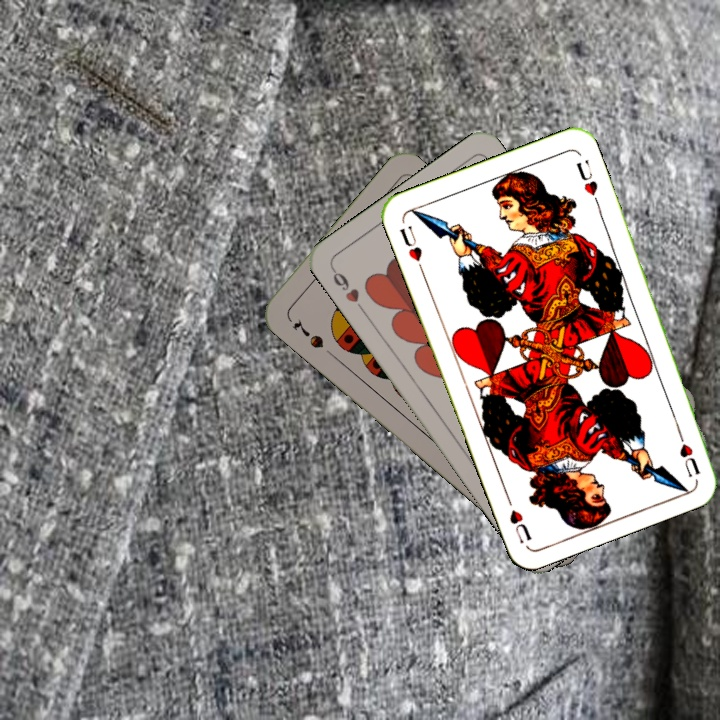H9: (327, 263, 367, 315)
HU: (673, 423, 703, 480), (395, 221, 426, 274)
S7: (287, 316, 326, 351)
